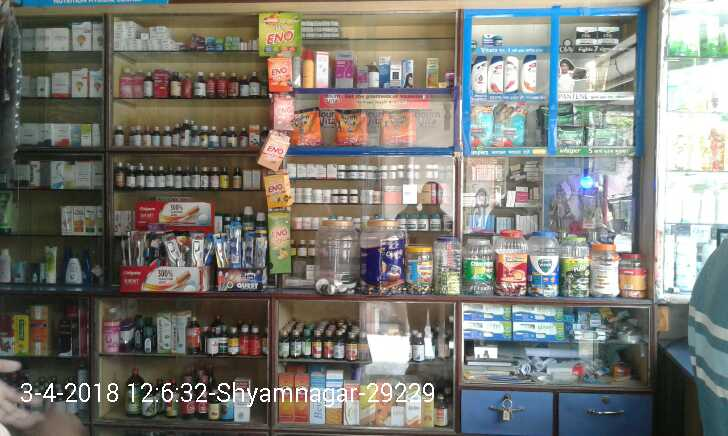vicks: (479, 32, 505, 49)
